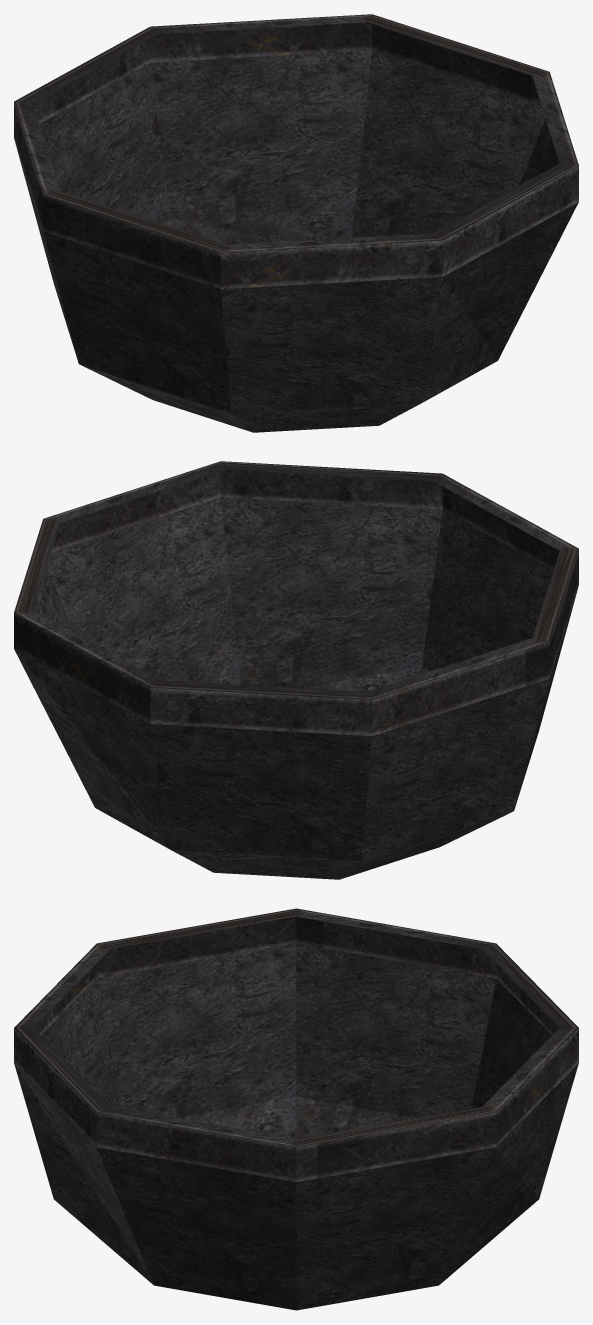
File: tavern_bigplate_LOD.dae
3 renders of one model, top to bottom at view 1: azimuth 30°, elevation 25°; view 2: azimuth 150°, elevation 25°; view 3: azimuth 270°, elevation 25°, orthographic. The views are drawn at different scales.
Visible parts, largest first — view 1: Default_Layer; view 2: Default_Layer; view 3: Default_Layer.
Boxes of the visible parts, x1,y1,x2,y2 form: Default_Layer: (14,14,578,432); Default_Layer: (14,461,578,879); Default_Layer: (14,908,578,1310).
Size of the model in its own units: 1.28 by 0.5579 by 1.28.
